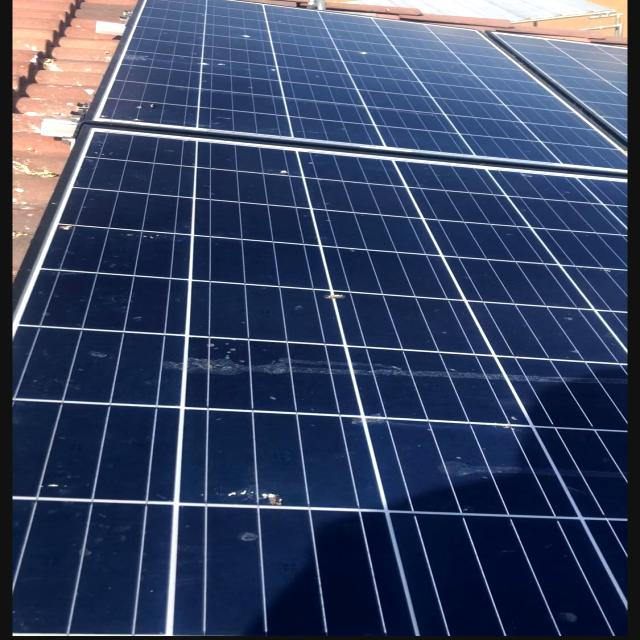bird: (172, 466, 354, 562)
